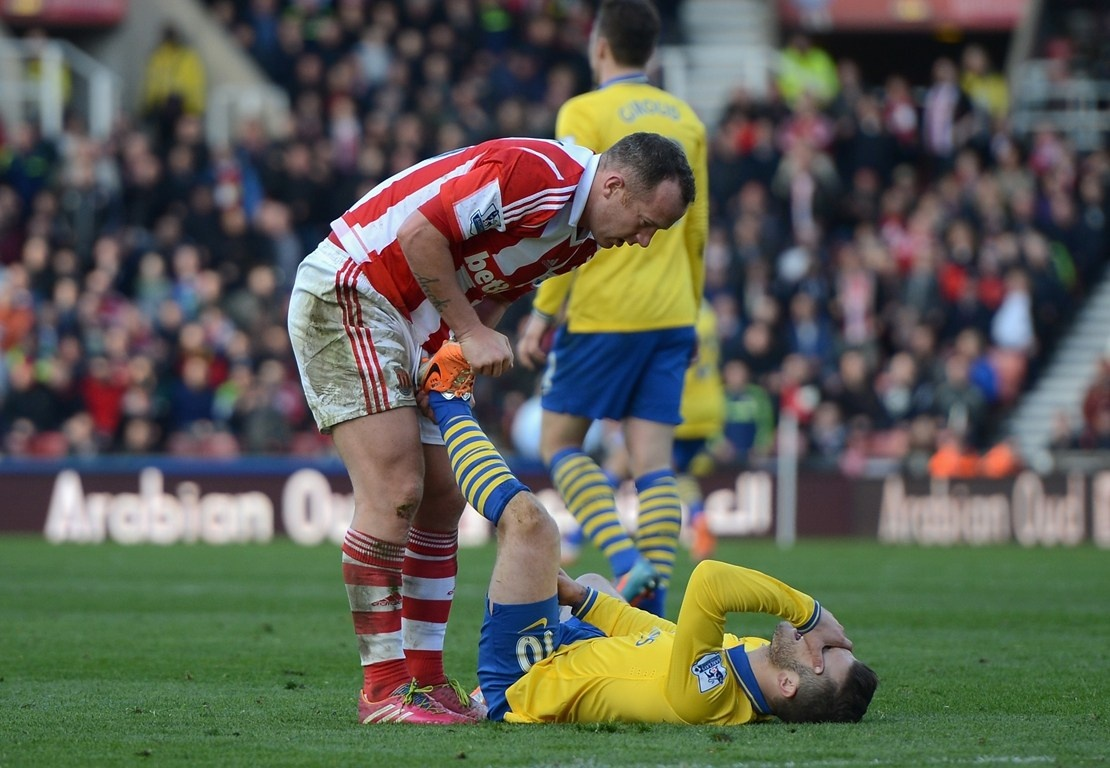falling: (362, 351, 890, 731)
